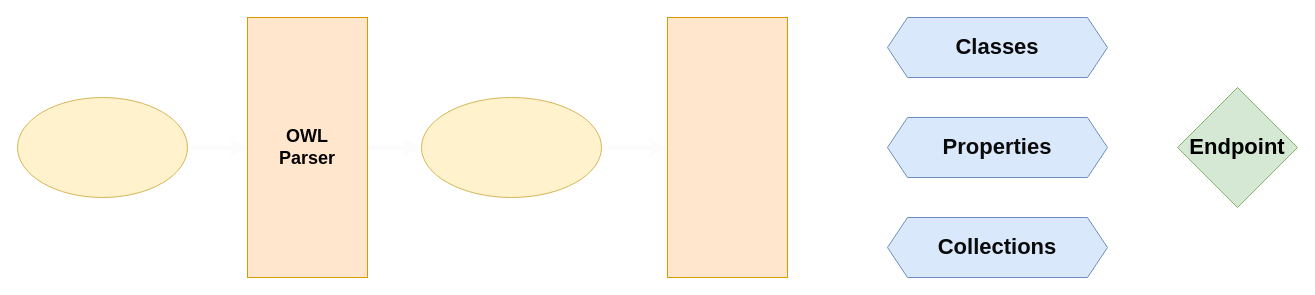
Image size: 1315x295. Some labels were removed from this diagram. The shapes that lost their labels are listed below. From the top down, each one's box as (x1, y1, x2, y2) in pixels, then its label:
(16, 96, 188, 198): OWL/RDF Vocubulary
(420, 96, 602, 198): API Documentation
(666, 16, 788, 278): Hydra Parser
